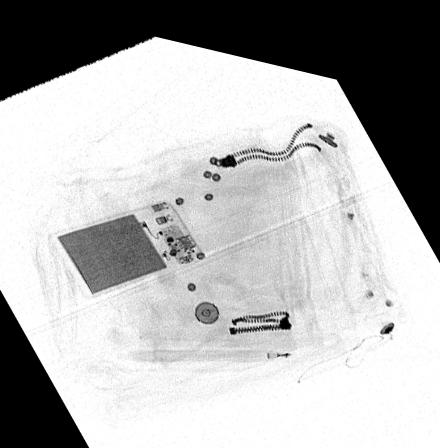Powerbank: (51, 191, 206, 293)
